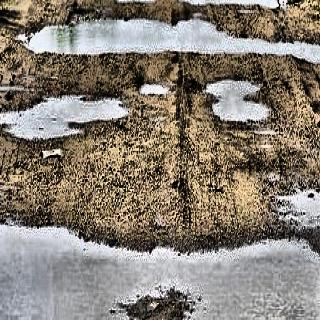pothole: (18, 13, 320, 68), (3, 83, 128, 146), (202, 72, 279, 126), (140, 75, 172, 102)
